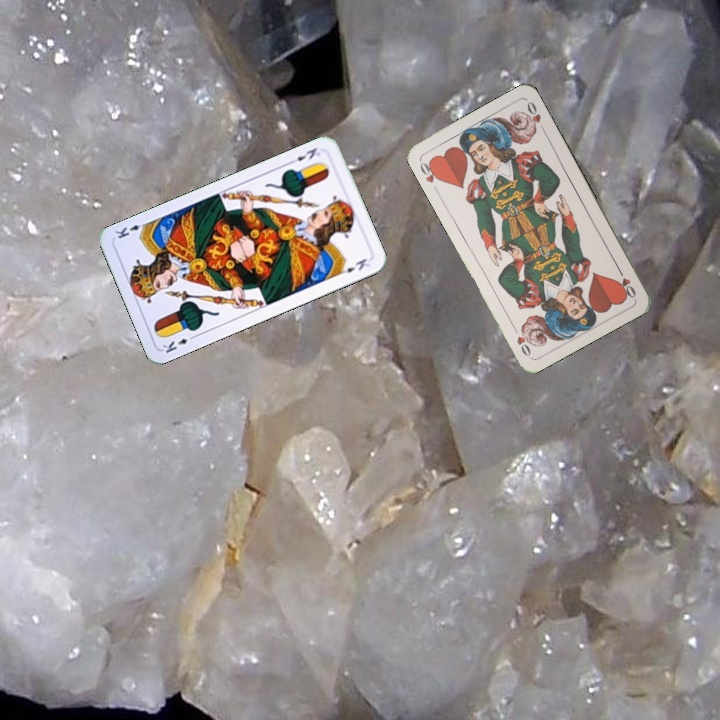EK: (158, 331, 198, 356), (285, 143, 323, 167)
HO: (613, 263, 639, 301), (416, 157, 443, 186)
